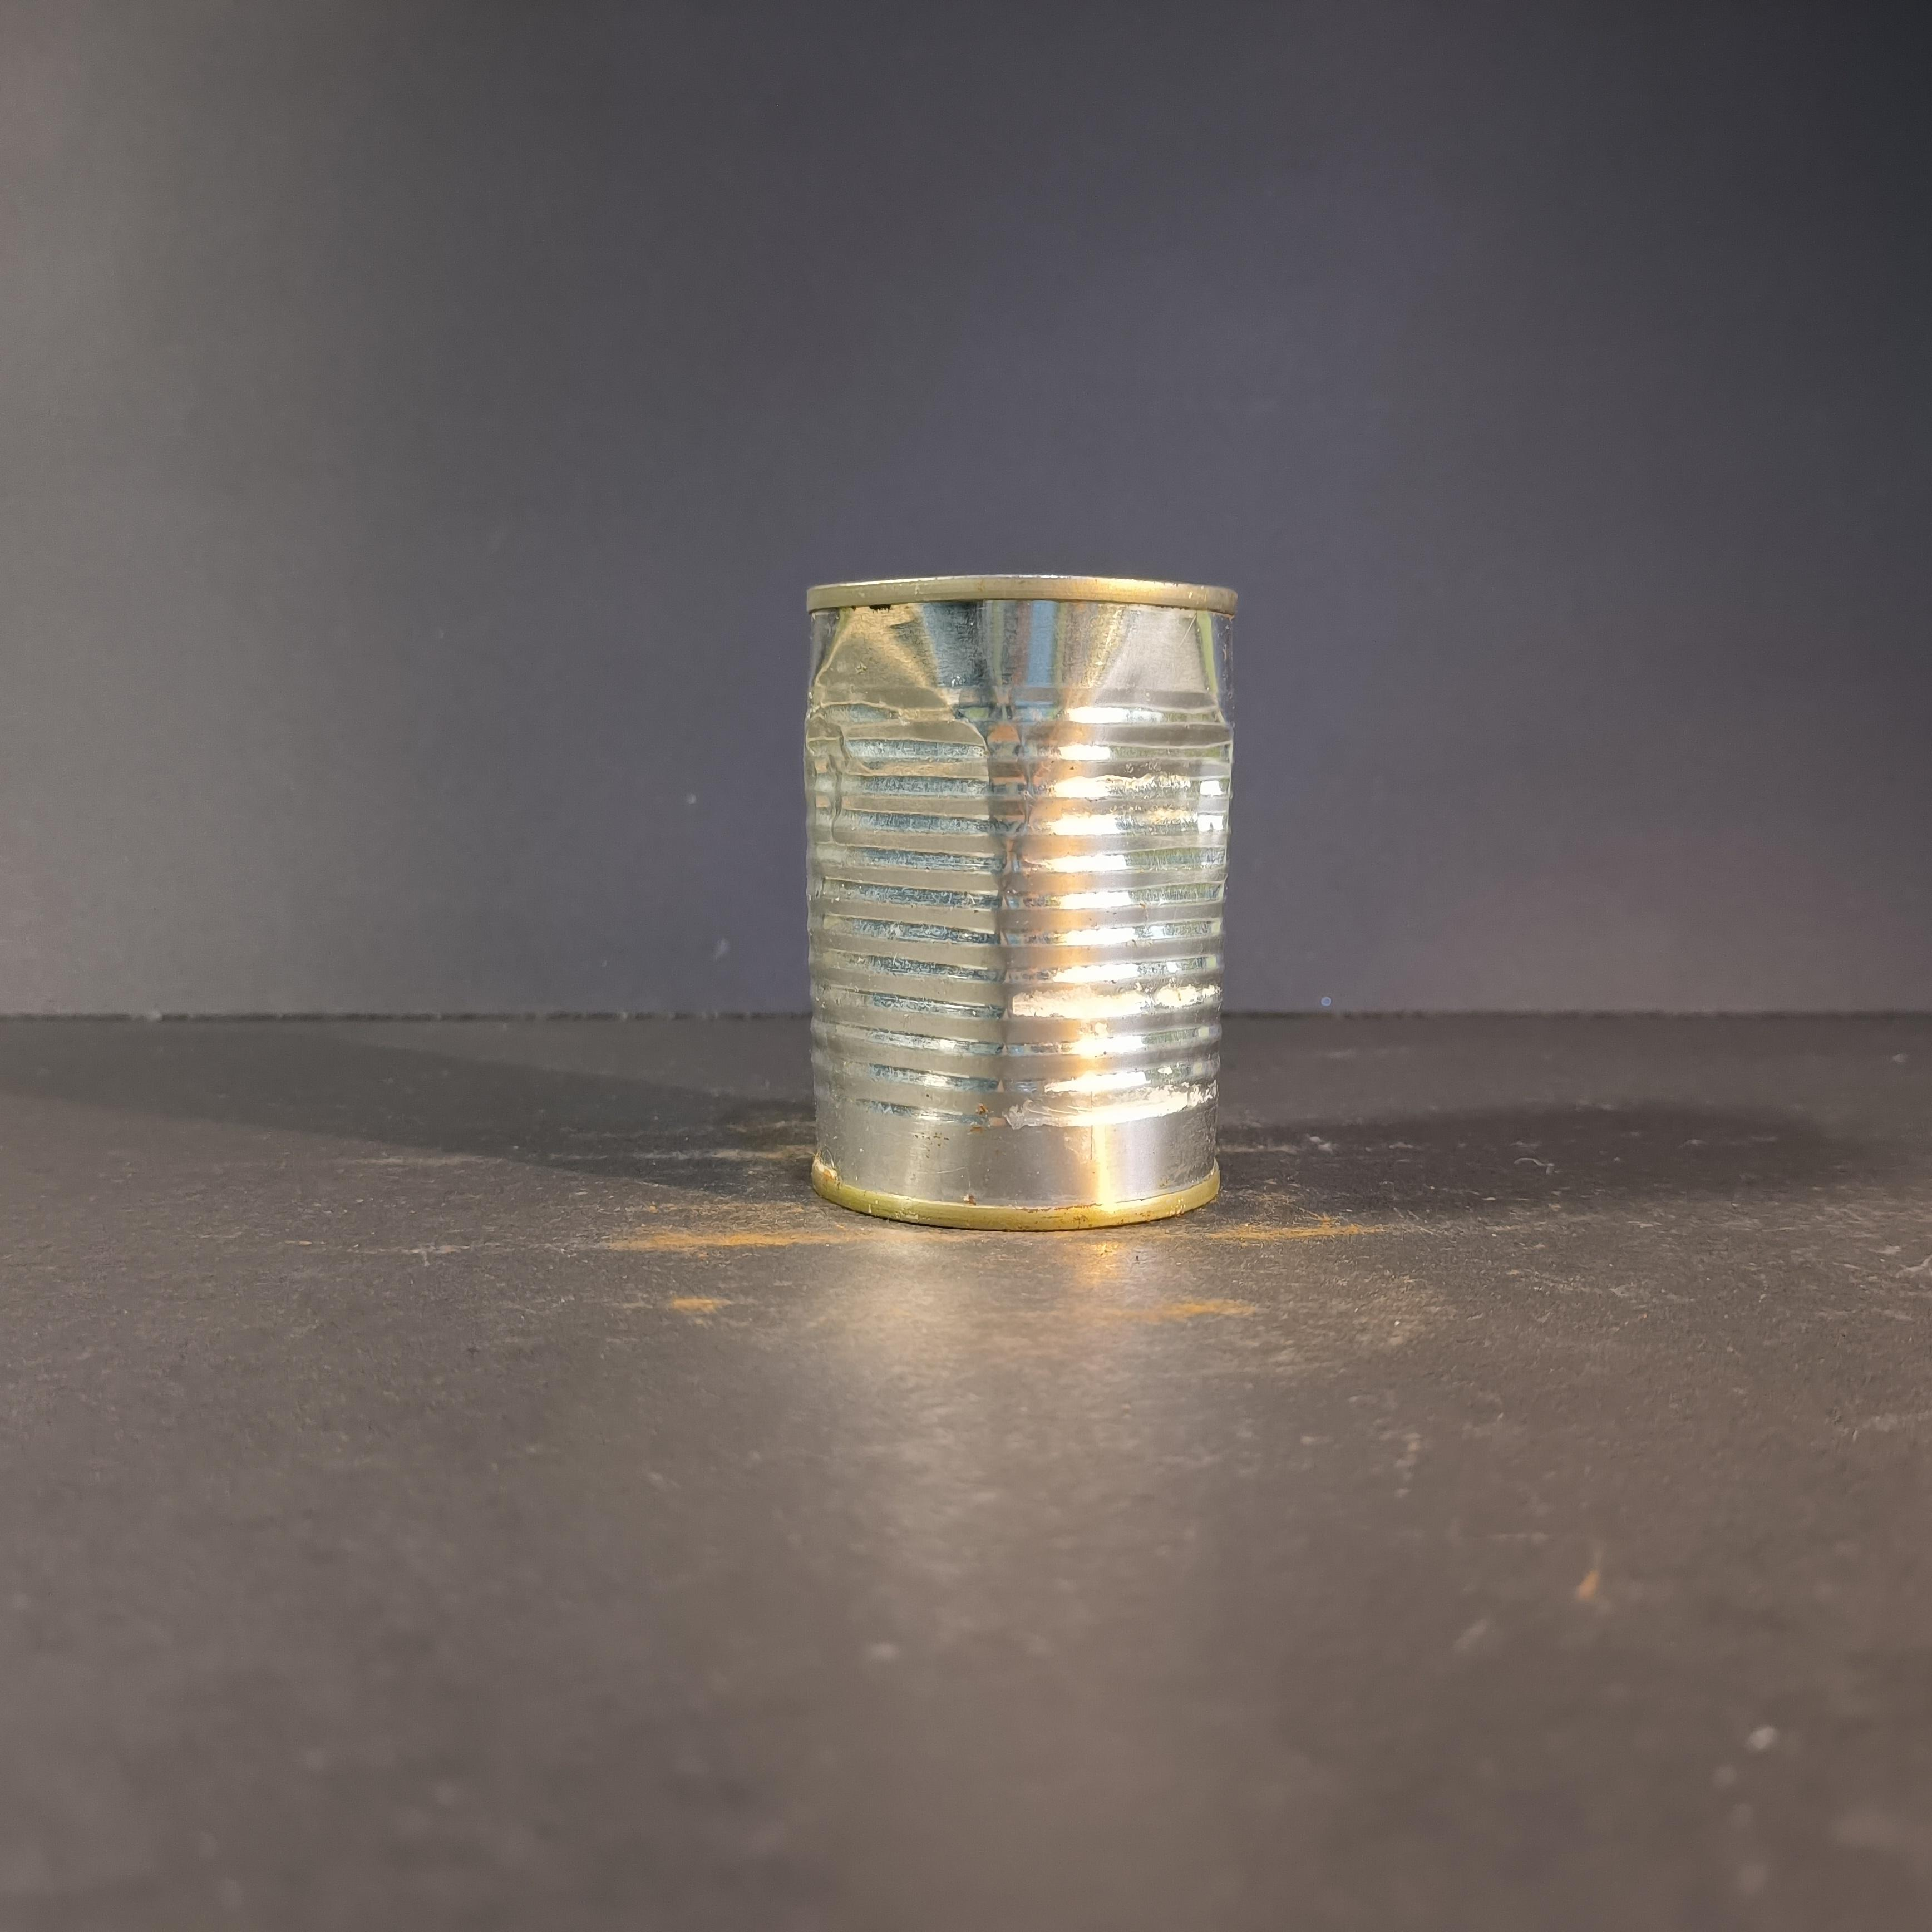Dented: (764, 524, 1249, 1249)
